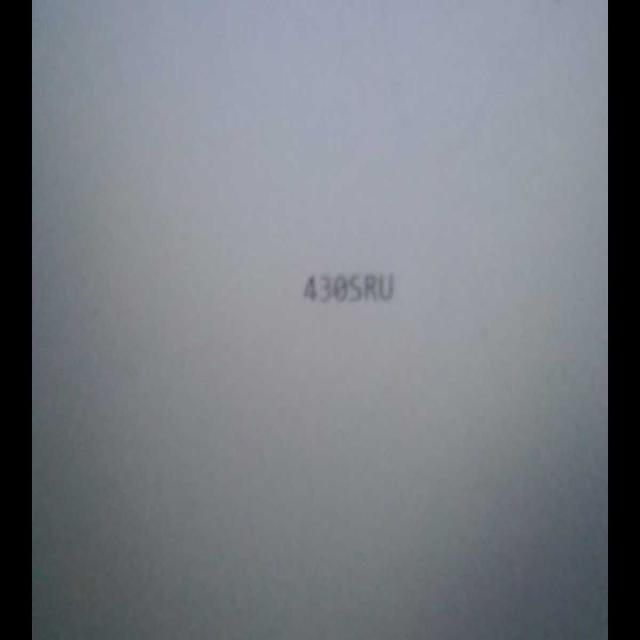license_plate: (300, 266, 404, 314)
